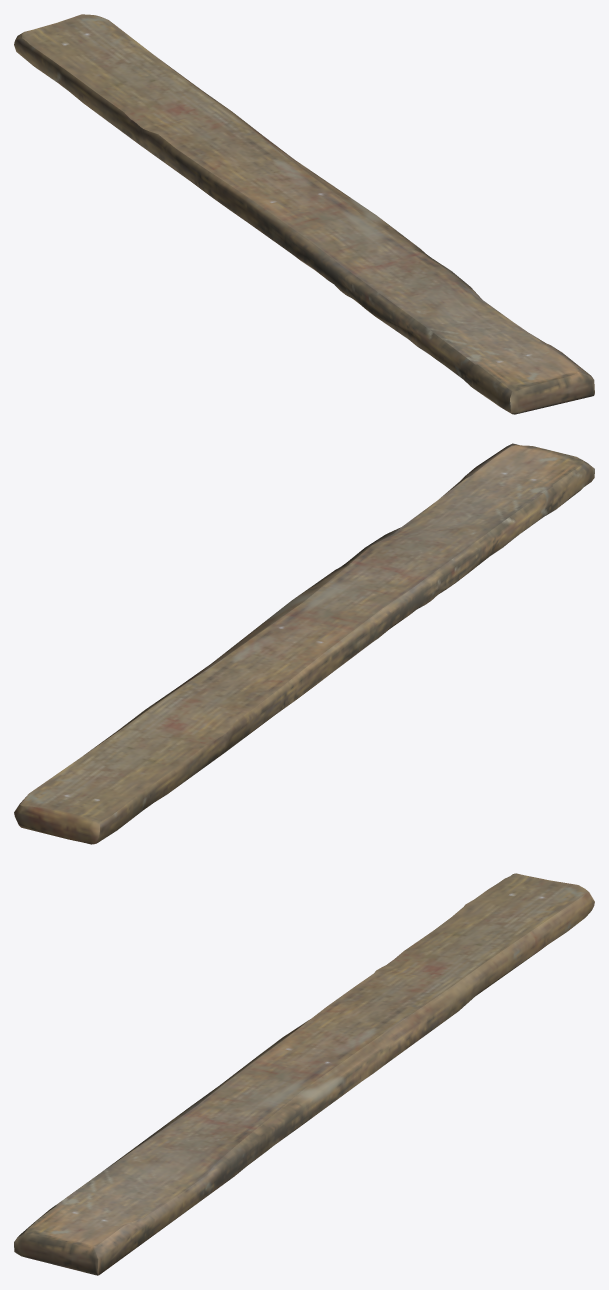
The model's file is SM_Plank_03.gltf.
The picture shows the model from 3 angles, top to bottom: view 1: azimuth 30°, elevation 25°; view 2: azimuth 150°, elevation 25°; view 3: azimuth 330°, elevation 25°; orthographic projection.
Parts seen in each view (by area): view 1: SM_Plank_03_LOD0; view 2: SM_Plank_03_LOD0; view 3: SM_Plank_03_LOD0.
Part boxes in pixels (left/top/right/bottom): SM_Plank_03_LOD0: left=14, top=14, right=594, bottom=414; SM_Plank_03_LOD0: left=14, top=443, right=594, bottom=844; SM_Plank_03_LOD0: left=14, top=873, right=594, bottom=1275.
Size of what is drawn, in the model's own units: 0.1395 by 0.0381 by 1.38.
